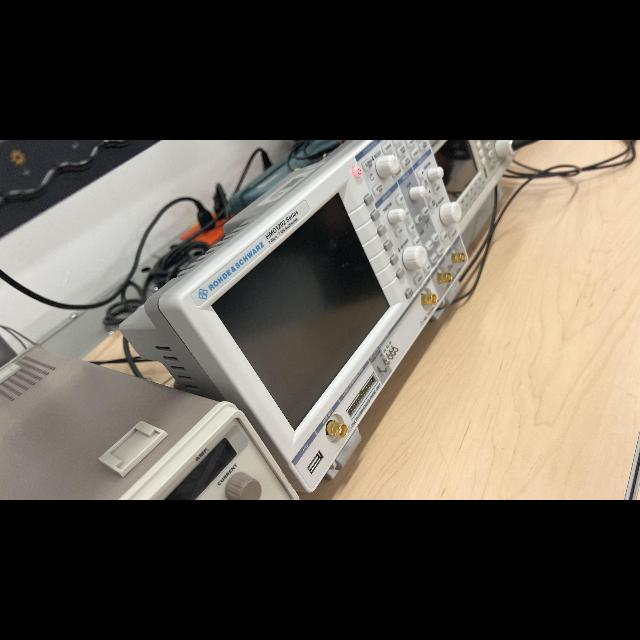Digital-Oscilloscope: (120, 140, 512, 492)
